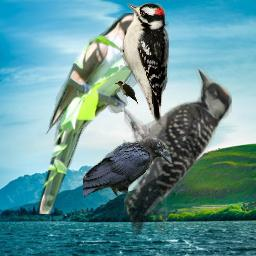Crow: (83, 136, 173, 198)
Cuckoo: (38, 13, 169, 214), (114, 81, 138, 105)
Woodpecker: (124, 62, 232, 235), (120, 3, 169, 128)
